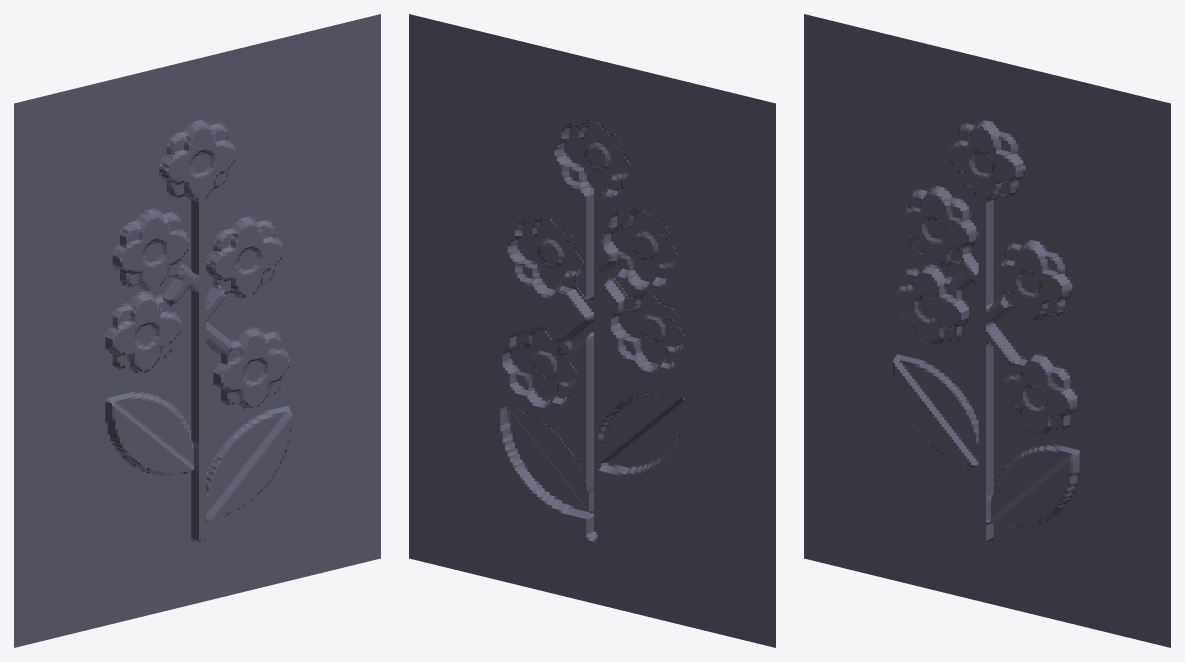
The model's file is daffodil.glb.
The picture shows the model from 3 angles, left to right: view 1: azimuth 30°, elevation 25°; view 2: azimuth 150°, elevation 25°; view 3: azimuth 330°, elevation 25°; orthographic projection.
Parts seen in each view (by area): view 1: Plane.042; view 2: Plane.042; view 3: Plane.042.
Boxes of the visible parts, x1,y1,x2,y2 form: Plane.042: (14,14,380,647); Plane.042: (409,14,775,647); Plane.042: (804,14,1170,647).
Size of the model in its own units: 4.1 by 5.82 by 0.0987.
